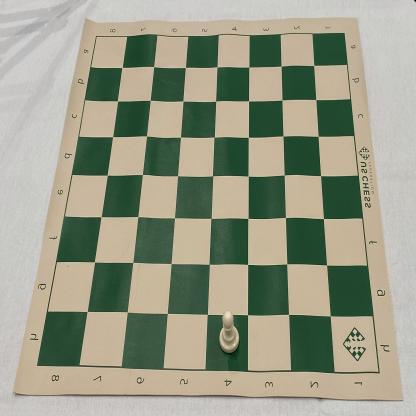white-pawn: (219, 310, 240, 354)
